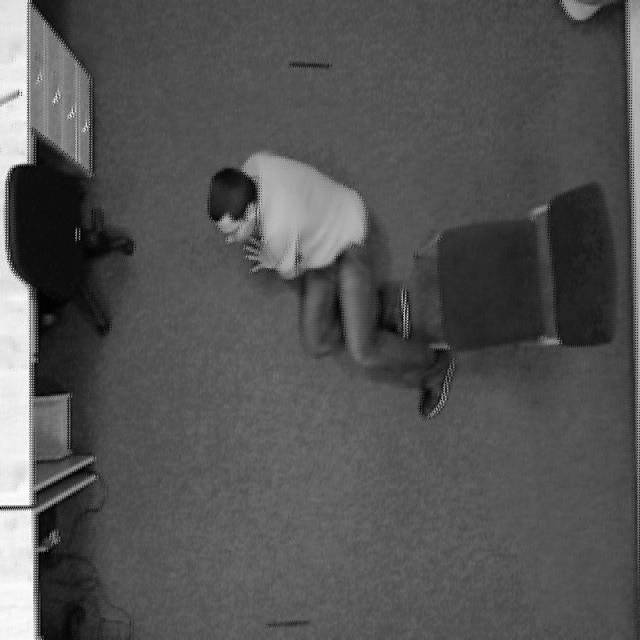lie: (222, 154, 447, 429)
